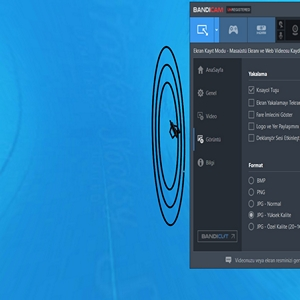circle: (141, 39, 185, 231)
submarine: (167, 119, 181, 139)
